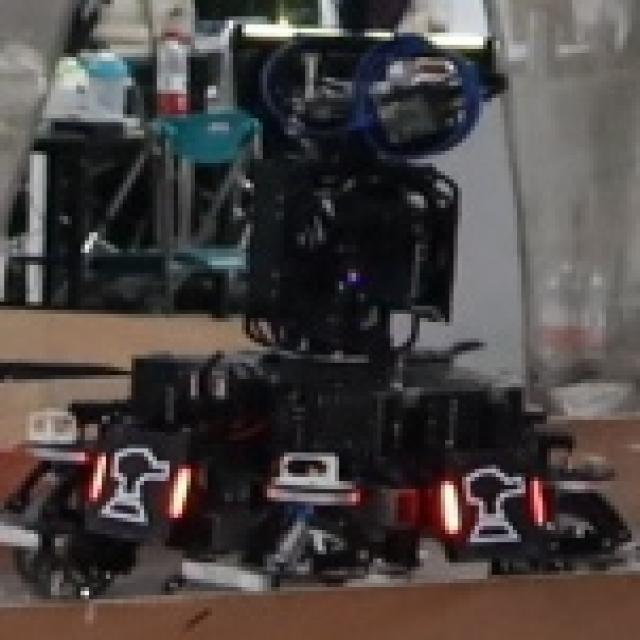Rs: (84, 440, 190, 526), (441, 461, 547, 546)
